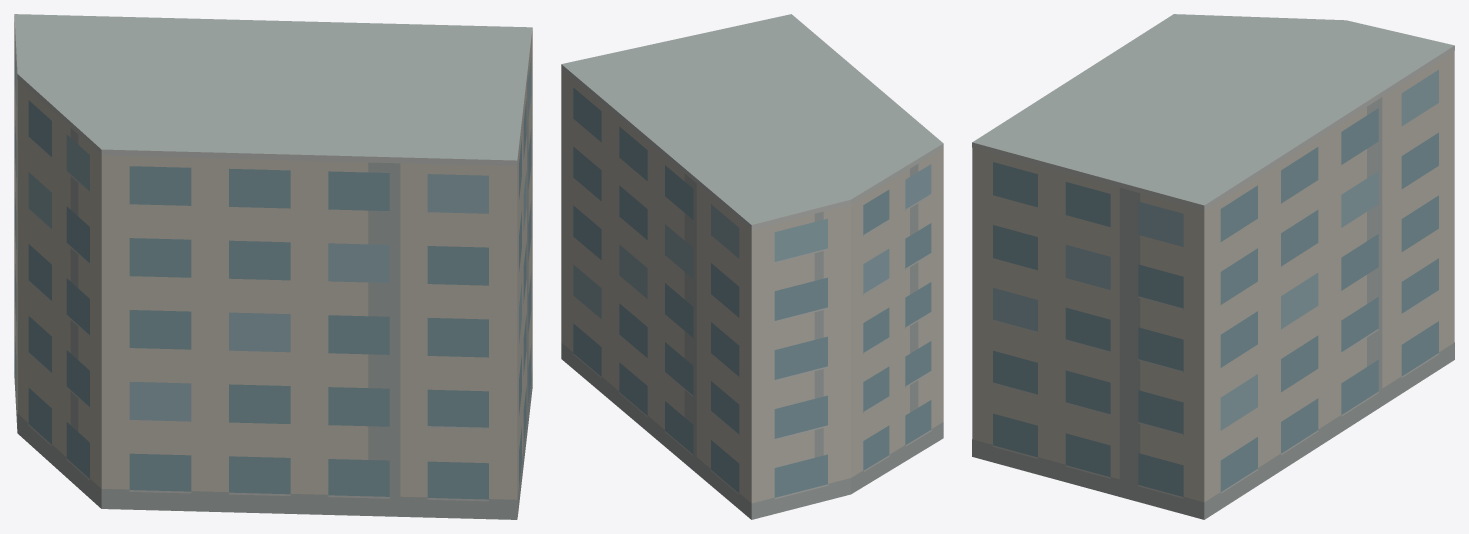
The model's file is survey-upis-32908319.glb.
3 renders of one model, left to right at view 1: azimuth 30°, elevation 25°; view 2: azimuth 150°, elevation 25°; view 3: azimuth 270°, elevation 25°, orthographic. The views are drawn at different scales.
Parts seen in each view (by area): view 1: survey-upis-32908319.tmp; view 2: survey-upis-32908319.tmp; view 3: survey-upis-32908319.tmp.
Boxes of the visible parts, <box> form: survey-upis-32908319.tmp: <box>14,14,532,519</box>; survey-upis-32908319.tmp: <box>561,14,943,519</box>; survey-upis-32908319.tmp: <box>972,14,1454,519</box>.
Bounding box in the file's own units: 19.34 × 14.8 × 20.6.
